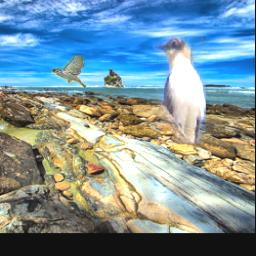Cuckoo: (153, 37, 206, 144)
Sparrow: (50, 55, 86, 88)
